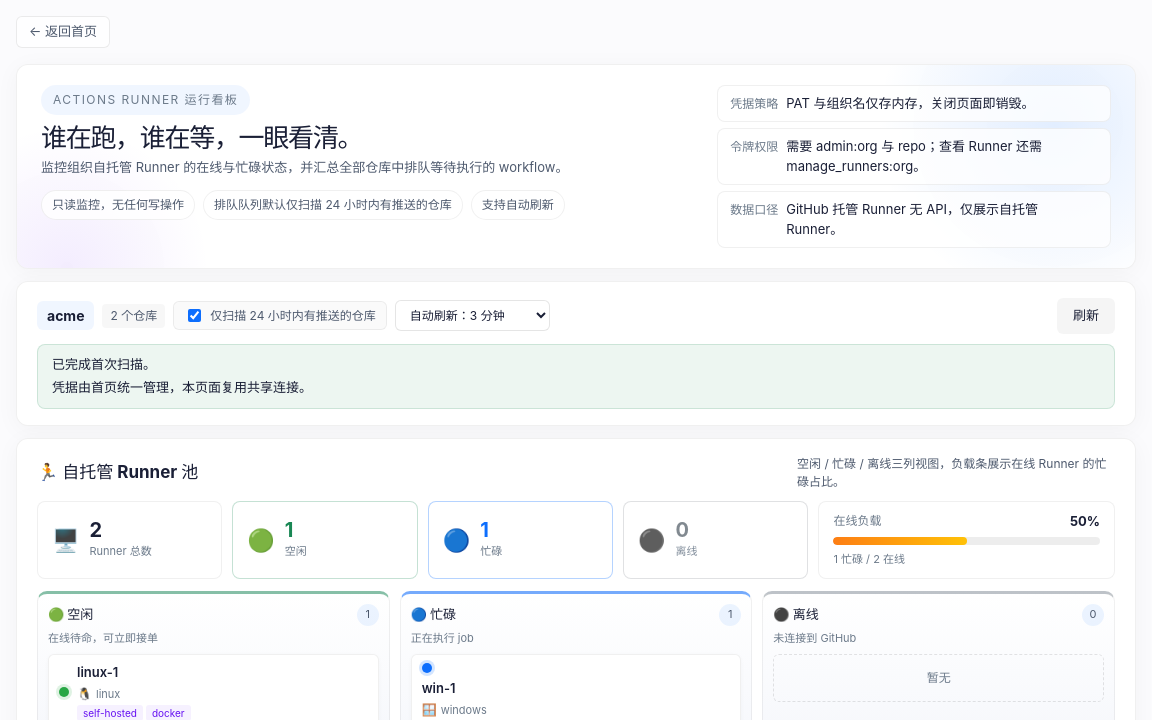
Test: RunnerBoard › updates running workflow status after it completes on next refresh
The image size is (1152, 720).
Click the button "刷新" at (1086, 316), box [1057,298,1115,334]
(page scrolled)
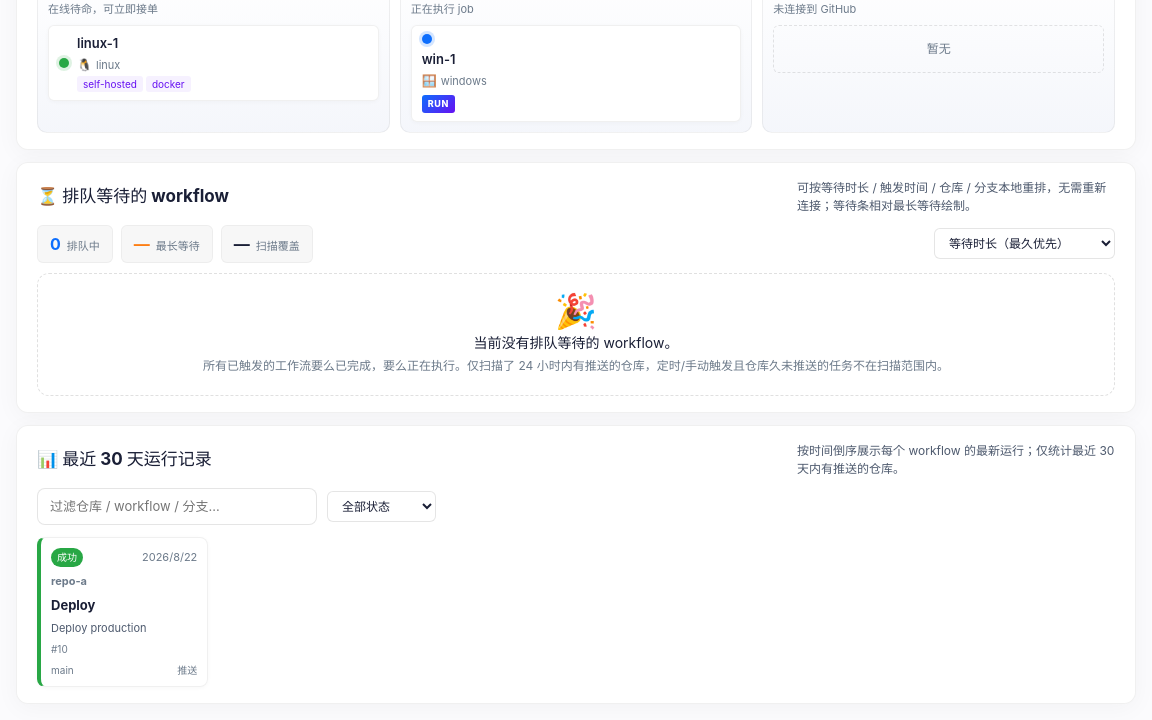
Expected: the text "成功" is shown, [51,548,83,567]
